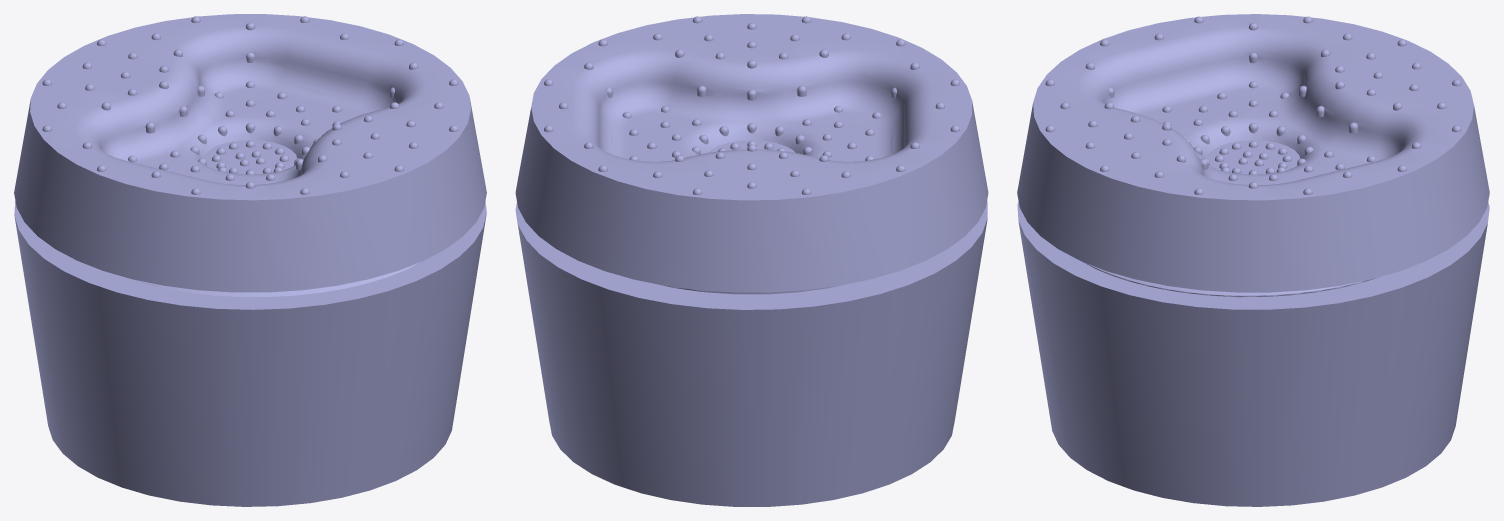
Rendered from grimeguard.glb.
3 renders of one model, left to right at view 1: azimuth 30°, elevation 25°; view 2: azimuth 150°, elevation 25°; view 3: azimuth 270°, elevation 25°, orthographic.
Visible parts, largest first — view 1: geometry_0; view 2: geometry_0; view 3: geometry_0.
Part boxes in pixels (x1,y1,x2,y2): geometry_0: [14, 14, 486, 506]; geometry_0: [515, 14, 988, 506]; geometry_0: [1017, 14, 1489, 506].
Bounding box in the file's own units: 0.9989 × 0.7433 × 1.
